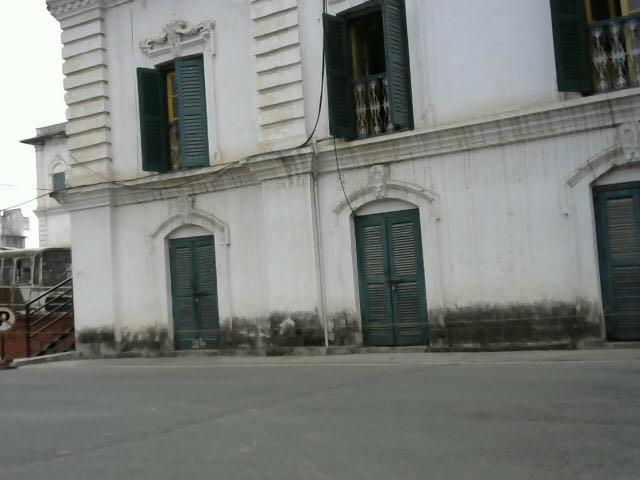Building: (47, 0, 640, 362)
Road: (0, 351, 640, 480)
Traffic sign: (0, 304, 18, 370)
